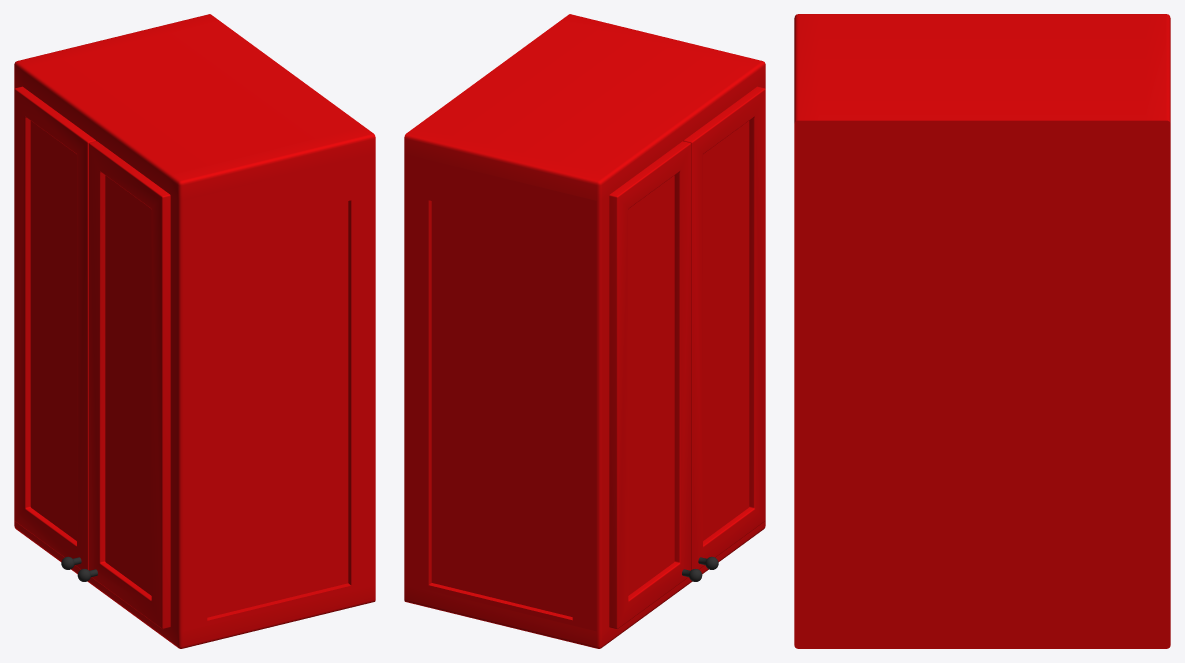
The model's file is drawer.fbx.
3 views of the same model, side by side, from view 1: azimuth 30°, elevation 25°; view 2: azimuth 150°, elevation 25°; view 3: azimuth 270°, elevation 25° (orthographic). The views are drawn at different scales.
Visible parts, largest first — view 1: drawer1_body, drawer1_rightDoor, drawer1_leftDoor; view 2: drawer1_body, drawer1_leftDoor, drawer1_rightDoor; view 3: drawer1_body.
Boxes of the visible parts, x1=… form: drawer1_body: x1=14, y1=14, x2=375, y2=648; drawer1_rightDoor: x1=77, y1=141, x2=170, y2=628; drawer1_leftDoor: x1=14, y1=86, x2=95, y2=569; drawer1_body: x1=404, y1=14, x2=765, y2=648; drawer1_leftDoor: x1=609, y1=141, x2=702, y2=628; drawer1_rightDoor: x1=684, y1=86, x2=765, y2=569; drawer1_body: x1=794, y1=14, x2=1170, y2=648.
Bounding box in the file's own units: 67.51 × 136 × 87.9.
